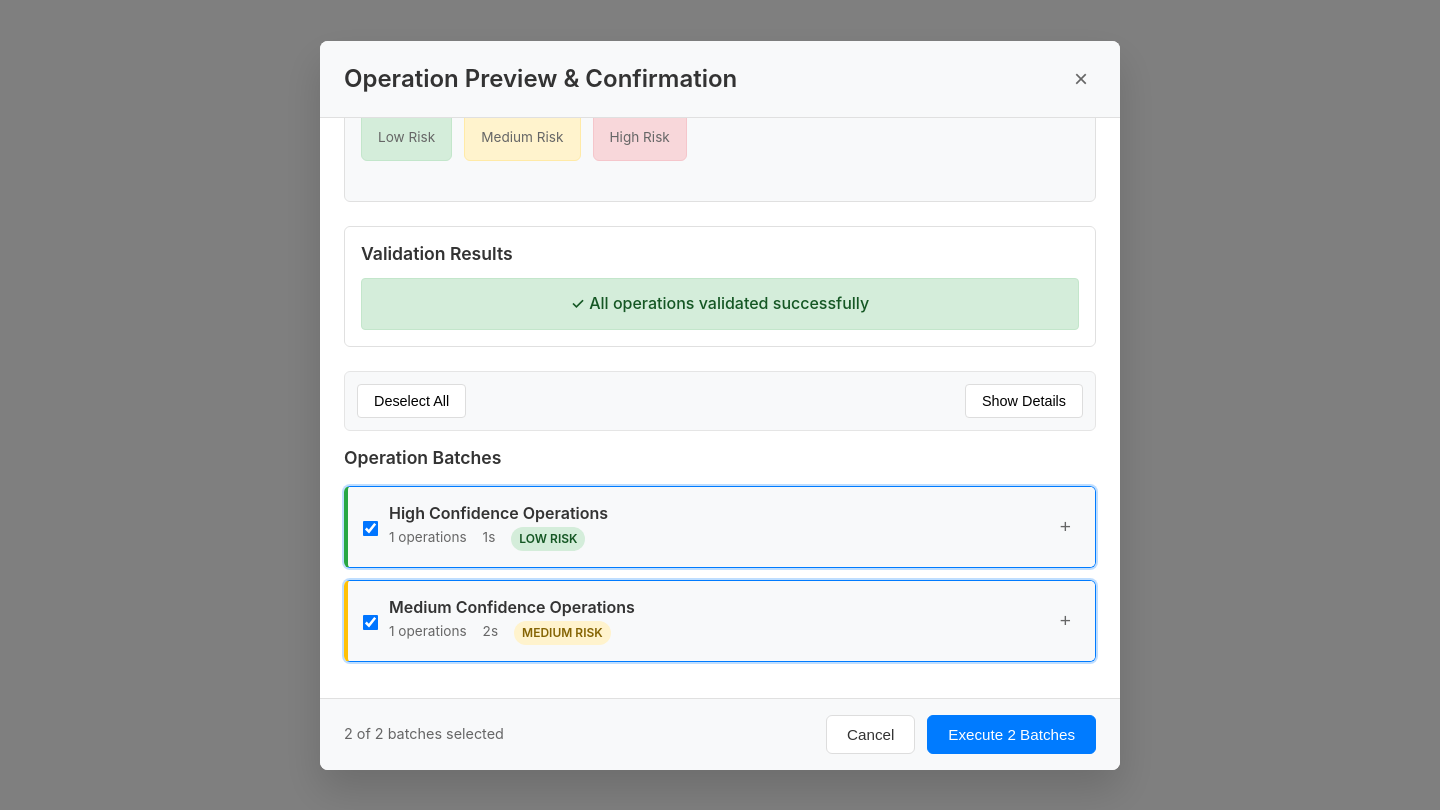
Test: OperationPreviewModal › Batch Expansion › should collapse expanded batch
(page scrolled)
// Expand first
Click the button named "Expand batch": (1065, 527) 1052,512 -> 1079,542
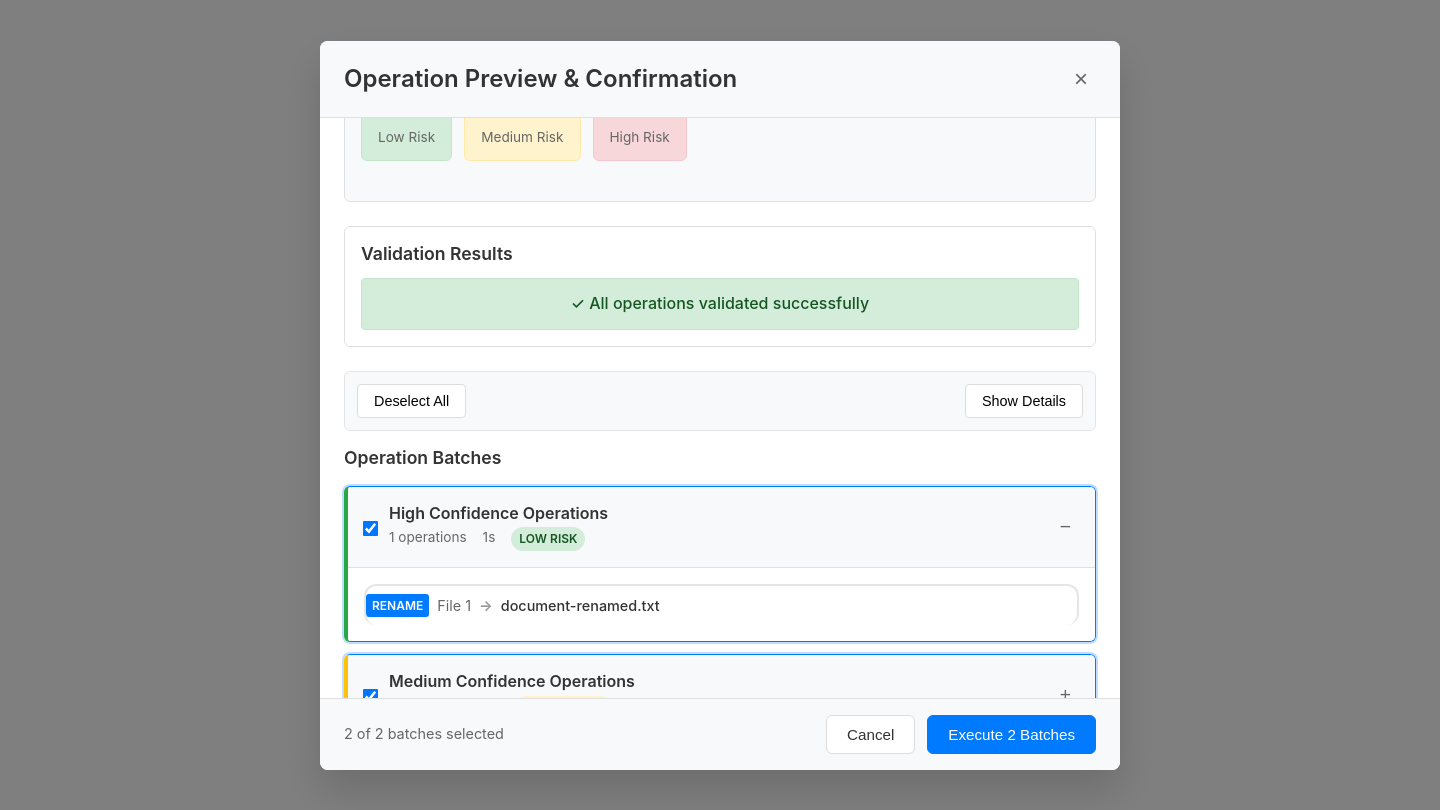
Check: the text "document-renamed.txt" is shown, box 501,594 -> 660,617
Click the button named "Collapse batch": (1065, 527) 1052,512 -> 1079,542
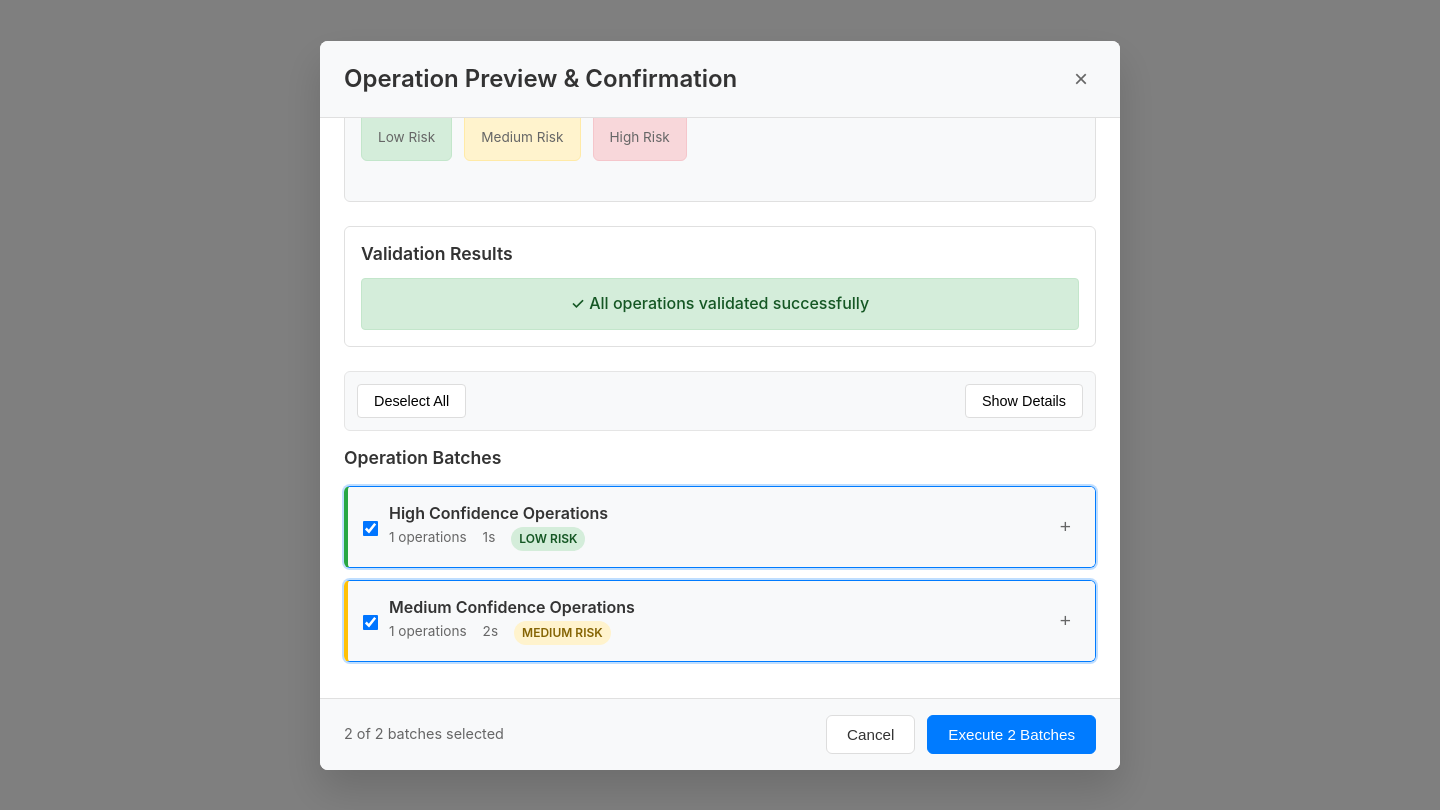
Check: the text "document-renamed.txt" is gone
